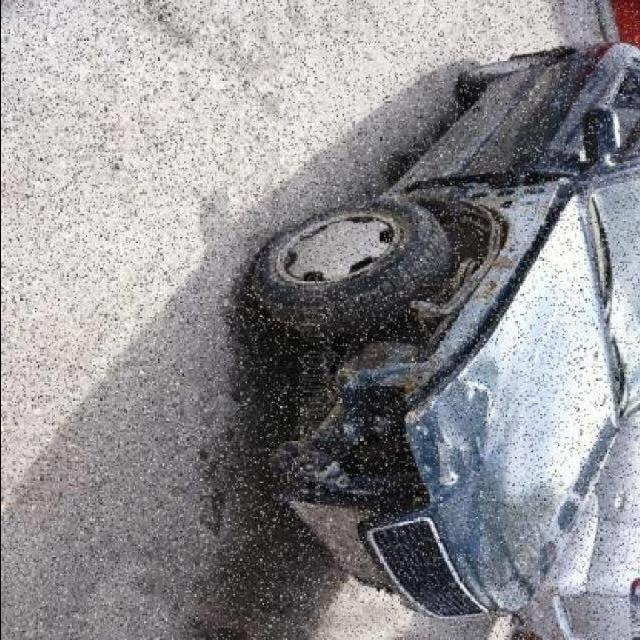bonnet-dent: (404, 286, 618, 530)
